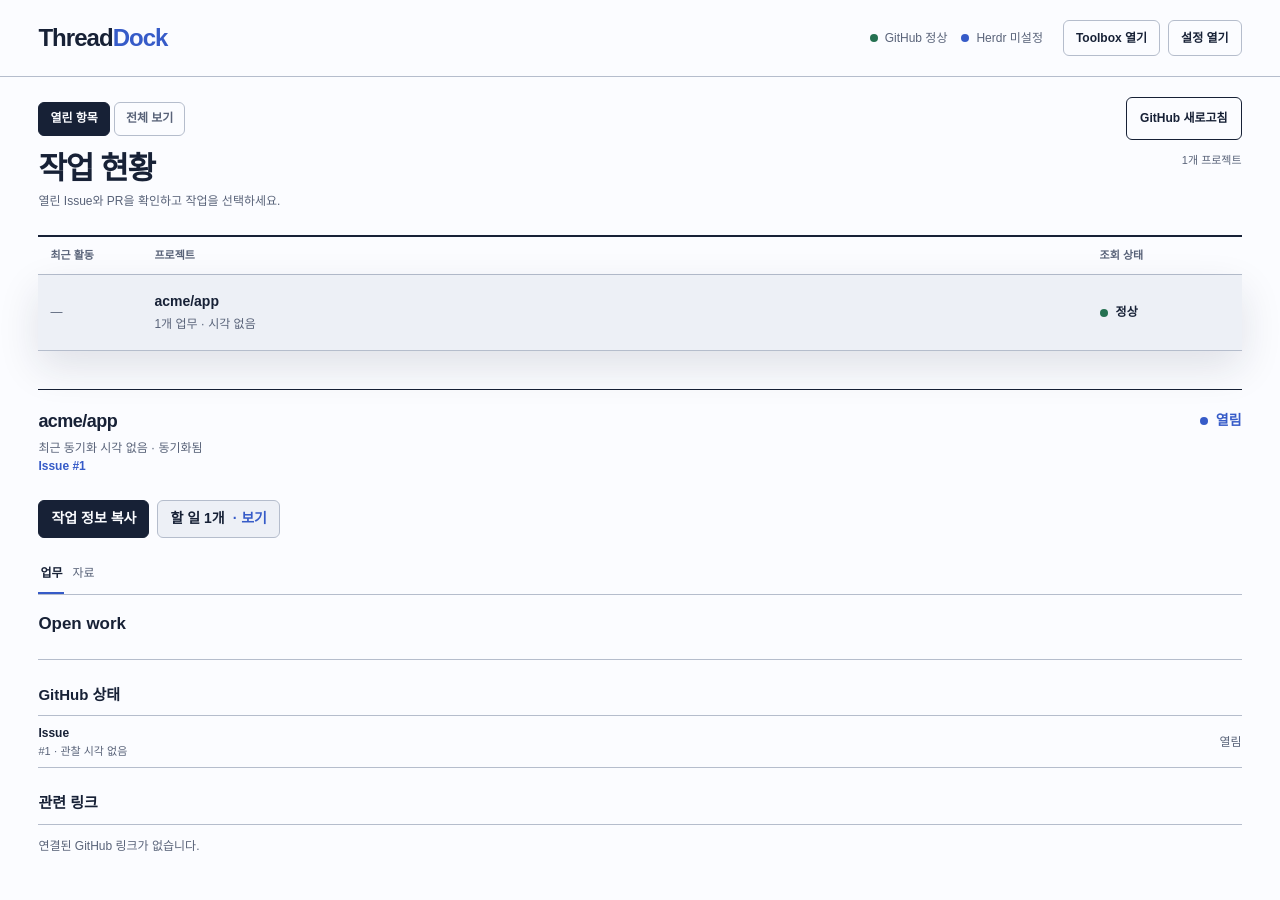
Test: work history scope › loads the global toolbox once under StrictMode and derives project Todo count from that cache
The image size is (1280, 900).
Expected: the text "할 일 1개" is shown, [170, 508, 225, 530]
Click the button "Toolbox 열기" at [1112, 38], box [1063, 20, 1160, 56]
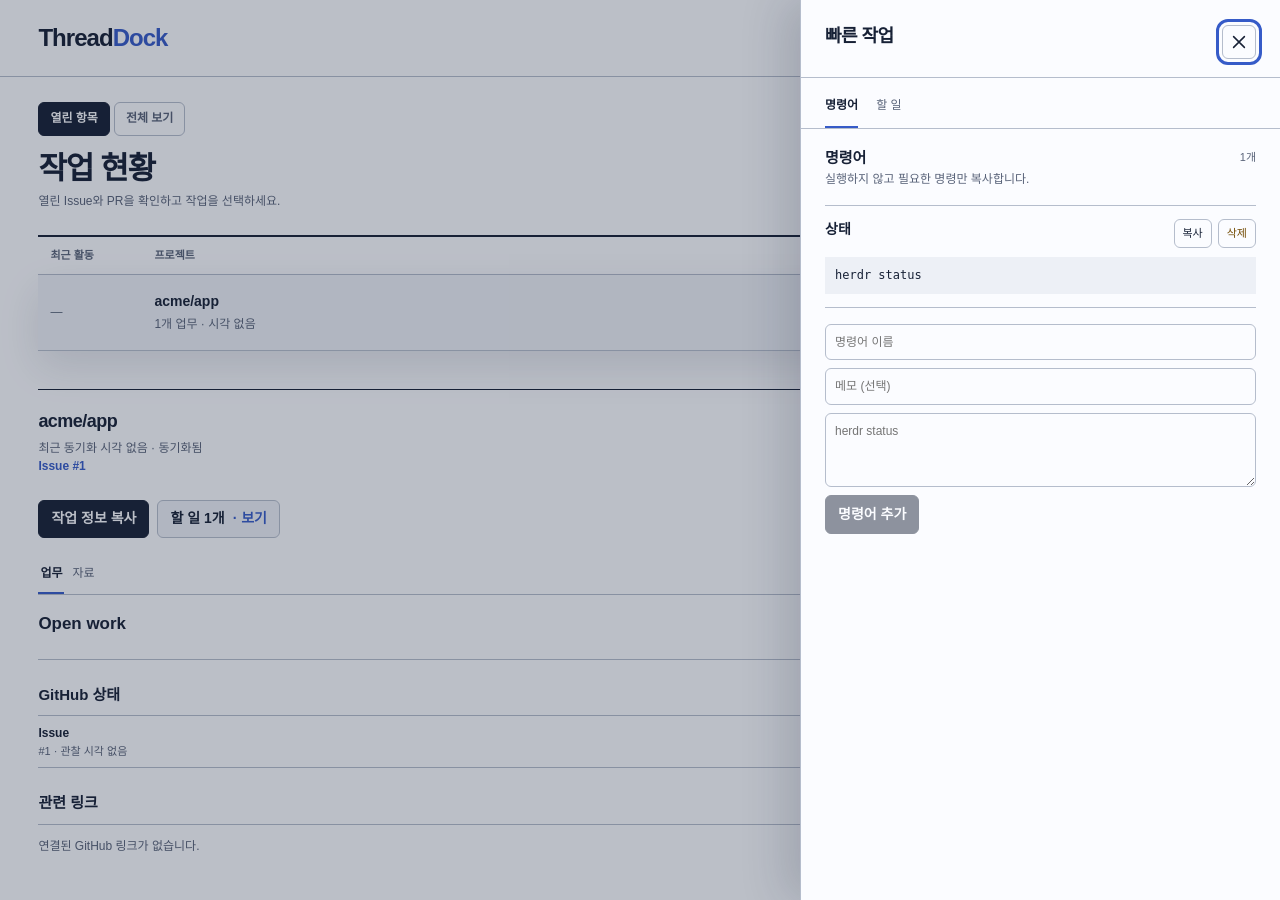
Expected: the dialog is shown, [800, 0, 1279, 899]
Expected: the text "herdr status" is shown, [835, 268, 922, 282]
